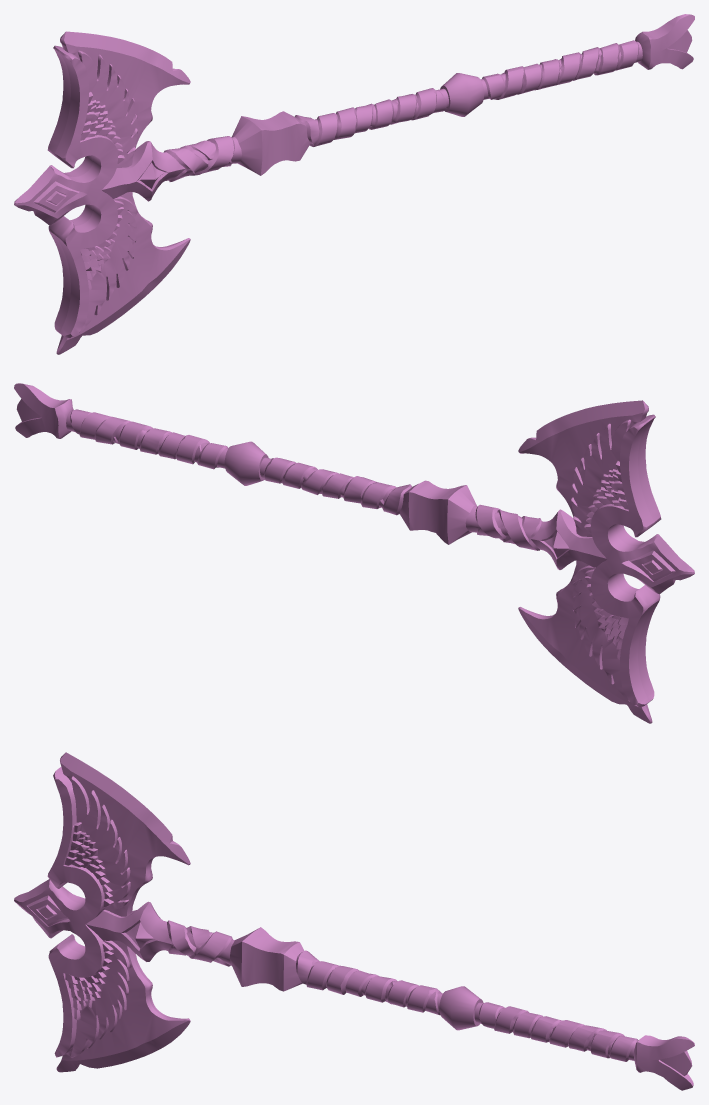
File: SM_Rune_Two_Handed_Poleaxe_1.fbx
The picture shows the model from 3 angles, top to bottom: view 1: azimuth 30°, elevation 25°; view 2: azimuth 150°, elevation 25°; view 3: azimuth 330°, elevation 25°; orthographic projection.
Parts seen in each view (by area): view 1: SM_Rune_Two_Handed_Poleaxe_1; view 2: SM_Rune_Two_Handed_Poleaxe_1; view 3: SM_Rune_Two_Handed_Poleaxe_1.
Boxes of the visible parts, left/top/right/bottom form: SM_Rune_Two_Handed_Poleaxe_1: left=14, top=14, right=694, bottom=354; SM_Rune_Two_Handed_Poleaxe_1: left=14, top=383, right=694, bottom=723; SM_Rune_Two_Handed_Poleaxe_1: left=14, top=752, right=694, bottom=1090.
Bounding box in the file's own units: 1.17 × 0.5289 × 0.0616.
